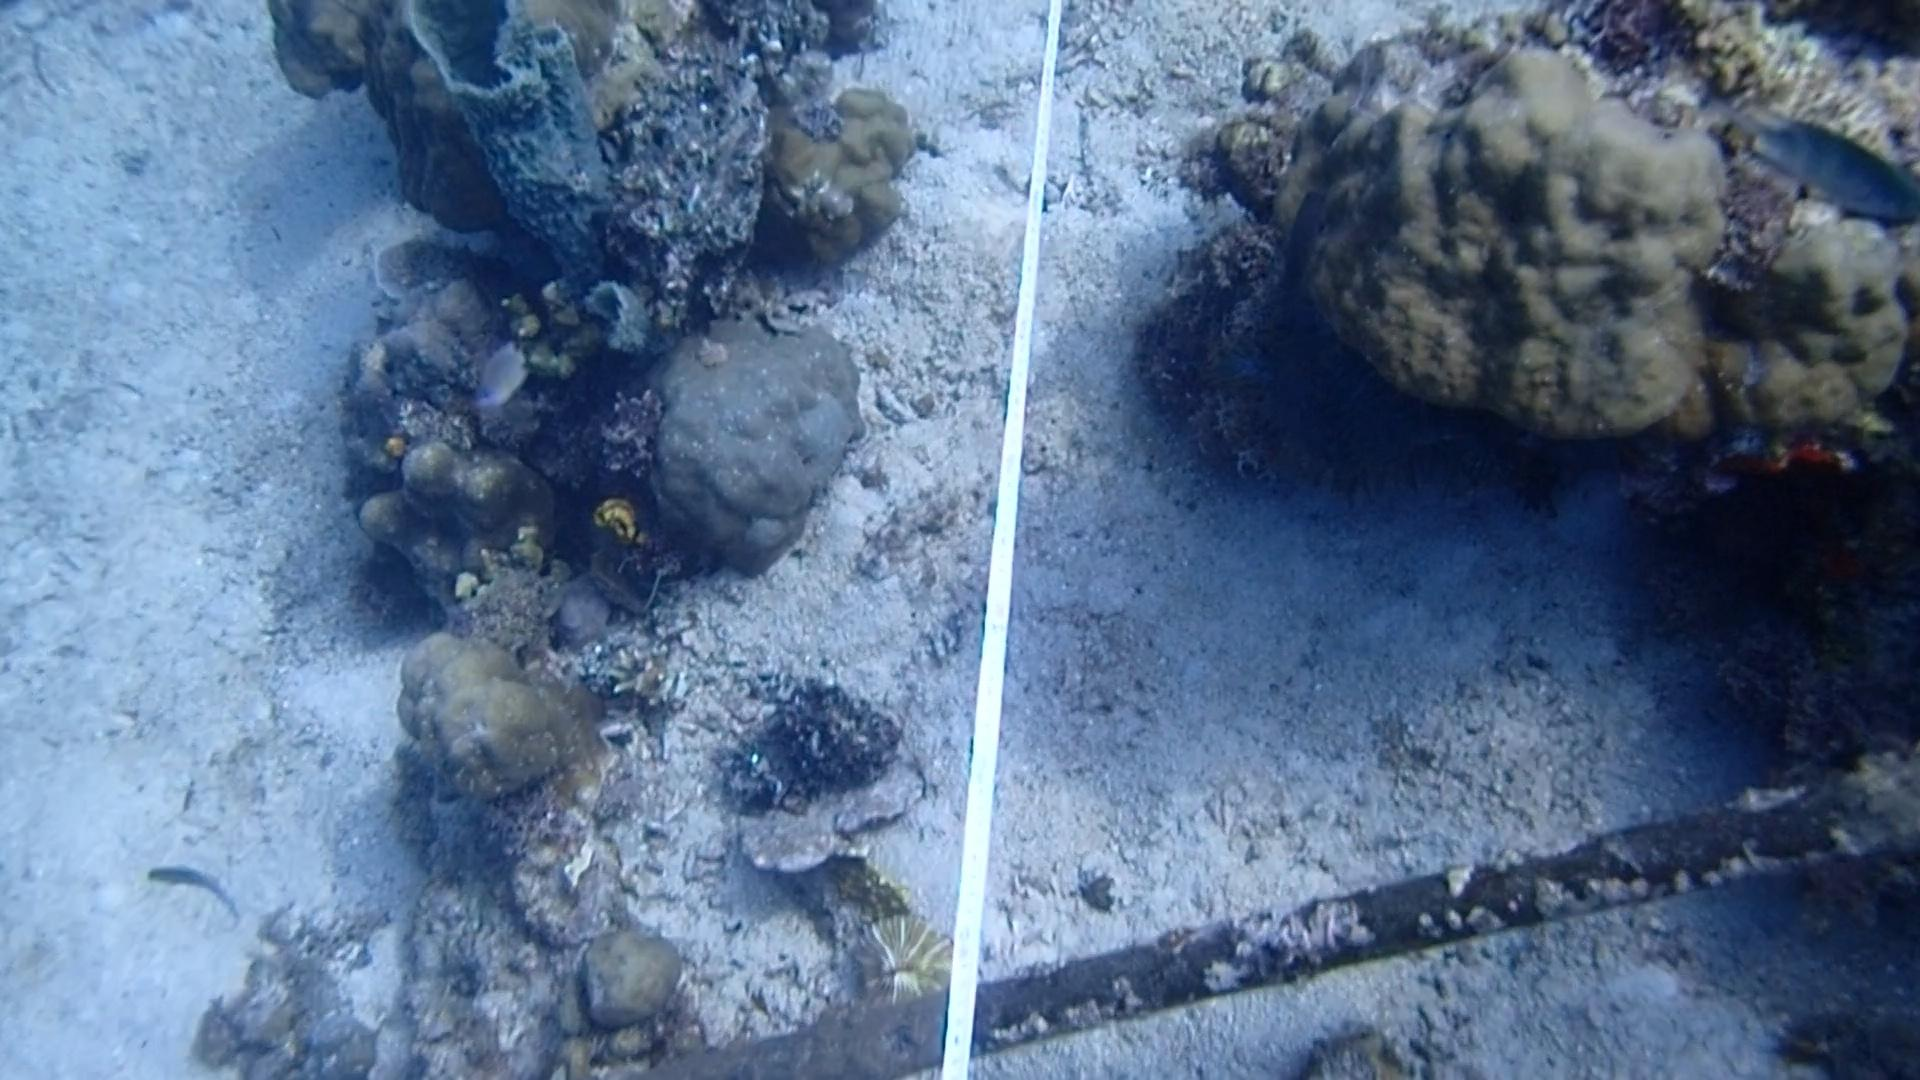Blue Fish: (1755, 105, 1911, 223)
Blue Nose Fish: (465, 334, 537, 415)
Dark Fish: (1258, 174, 1344, 314)
Striped Fish: (136, 837, 245, 926)
